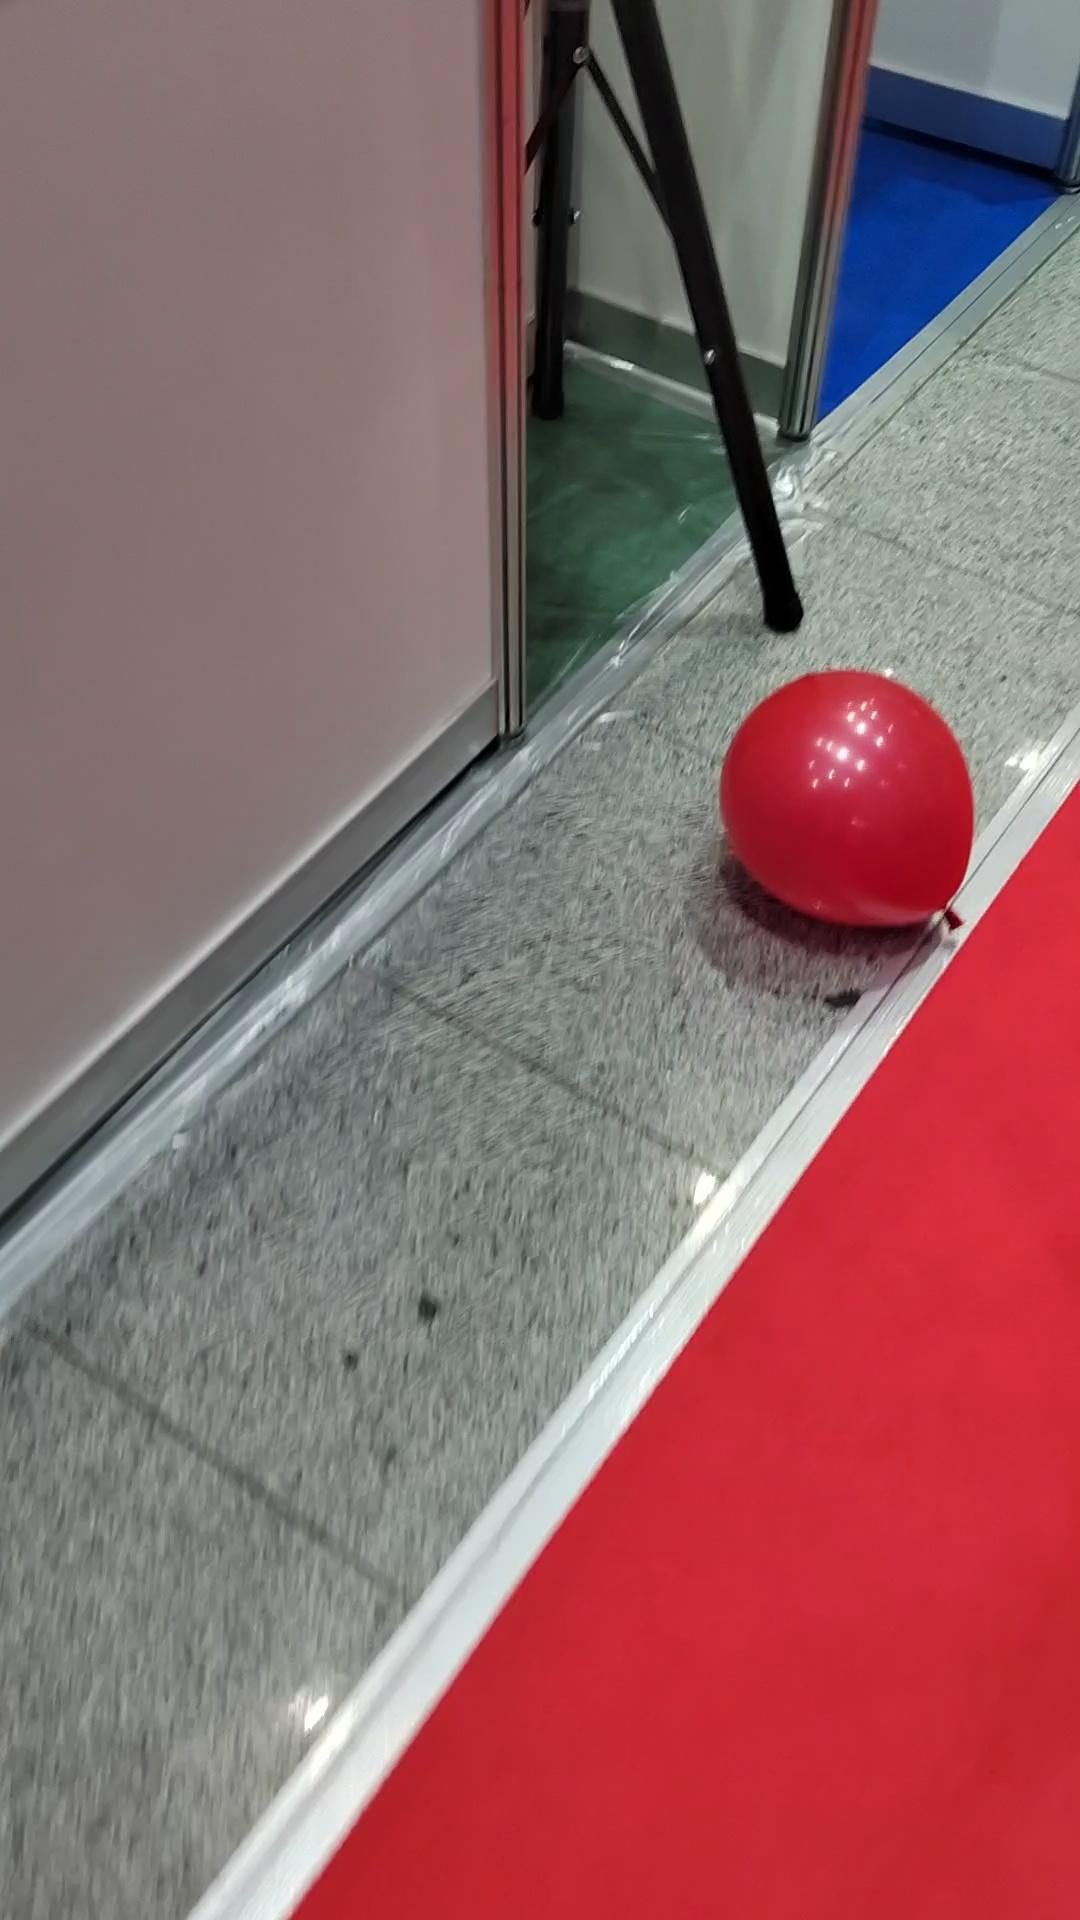red: (709, 667, 980, 931)
